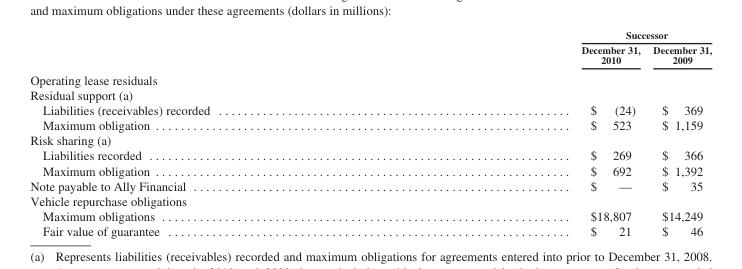table: (29, 28, 711, 237)
table column: (29, 28, 395, 237), (395, 28, 646, 237), (646, 28, 711, 237)
table column header: (29, 28, 711, 68)
table projected row header: (29, 68, 711, 86), (29, 86, 711, 102), (29, 192, 711, 208), (29, 132, 711, 147)
table row: (29, 42, 711, 68), (29, 68, 711, 86), (29, 86, 711, 102), (29, 192, 711, 208), (29, 102, 711, 117), (29, 117, 711, 132), (29, 132, 711, 147), (29, 147, 711, 162), (29, 162, 711, 177), (29, 177, 711, 192), (29, 208, 711, 223), (29, 28, 711, 42), (29, 223, 711, 237)
table spanning cell: (395, 28, 711, 42)
